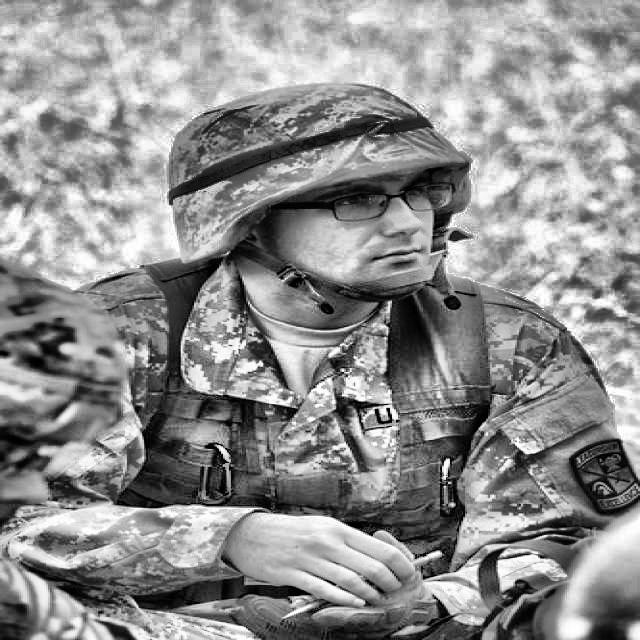Helmet: (162, 77, 486, 314)
